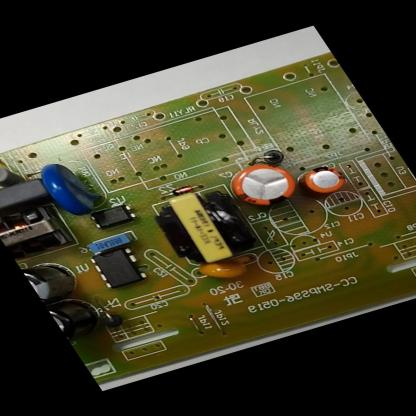Cap1: (216, 150, 312, 217)
Cap2: (287, 157, 358, 206)
Cap3: (19, 254, 88, 306)
Cap4: (43, 288, 125, 350)
MOSFET: (82, 238, 160, 294)
Mov: (22, 152, 119, 224)
Resistor: (0, 150, 32, 195)
Transformer: (139, 177, 277, 276), (0, 199, 80, 262)
